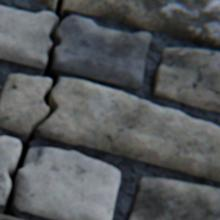brick: (152, 49, 219, 113), (127, 178, 219, 219), (0, 215, 17, 219)
broken_brick: (35, 78, 219, 182), (61, 0, 219, 49), (14, 148, 119, 219), (52, 17, 149, 90), (0, 7, 56, 70), (0, 75, 50, 135), (0, 137, 20, 205), (33, 0, 55, 9)
crack: (0, 0, 70, 218), (204, 87, 219, 94)
